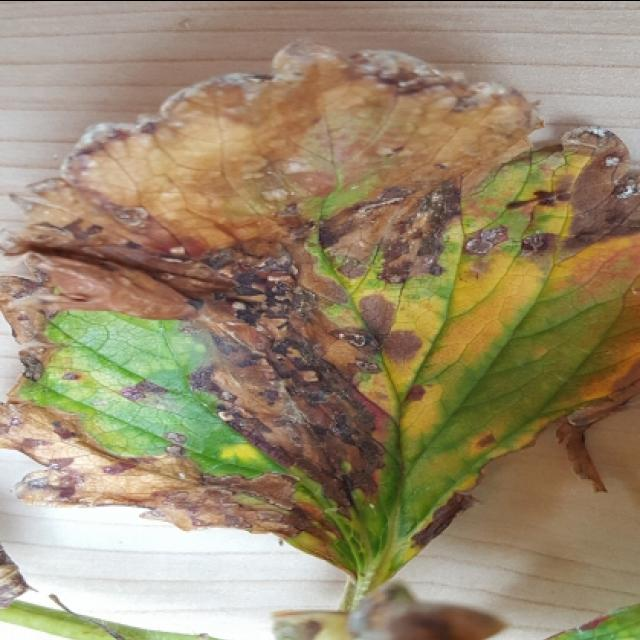Angular Leafspot: (0, 38, 638, 590)
